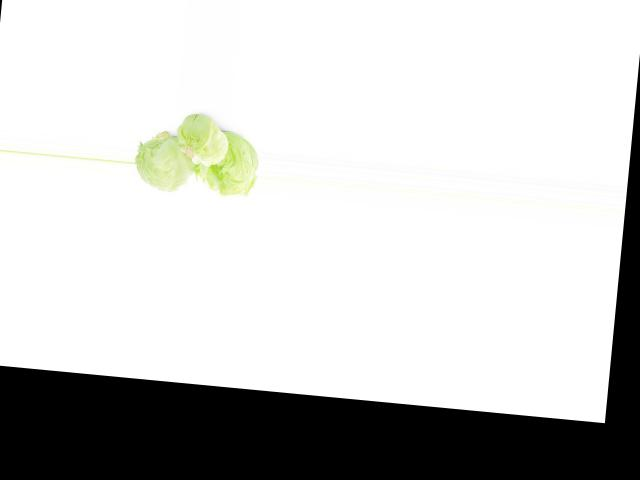lettuce: (200, 133, 257, 194)
